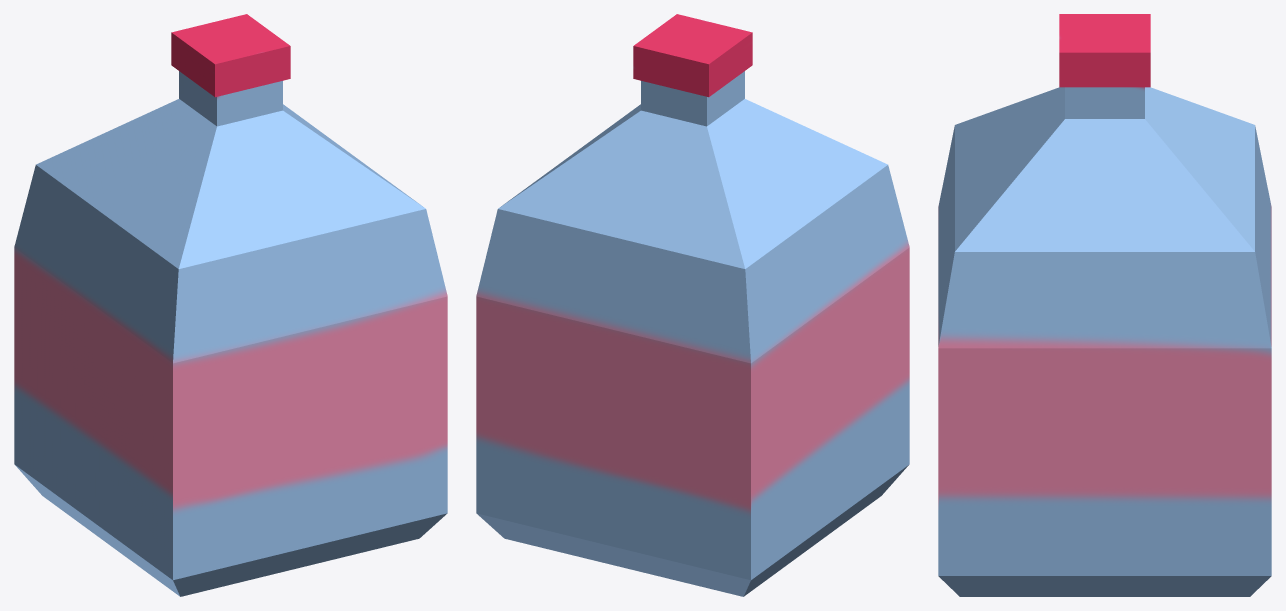
3 renders of one model, left to right at view 1: azimuth 30°, elevation 25°; view 2: azimuth 150°, elevation 25°; view 3: azimuth 270°, elevation 25°, orthographic. The views are drawn at different scales.
Parts seen in each view (by area): view 1: bottle; view 2: bottle; view 3: bottle.
Boxes of the visible parts, left/top/right/bottom form: bottle: left=14, top=14, right=447, bottom=596; bottle: left=476, top=14, right=909, bottom=596; bottle: left=938, top=14, right=1271, bottom=596.
Bounding box in the file's own units: 0.9422 × 1.57 × 0.9422.
Materials: 1 (1 with a texture image).
